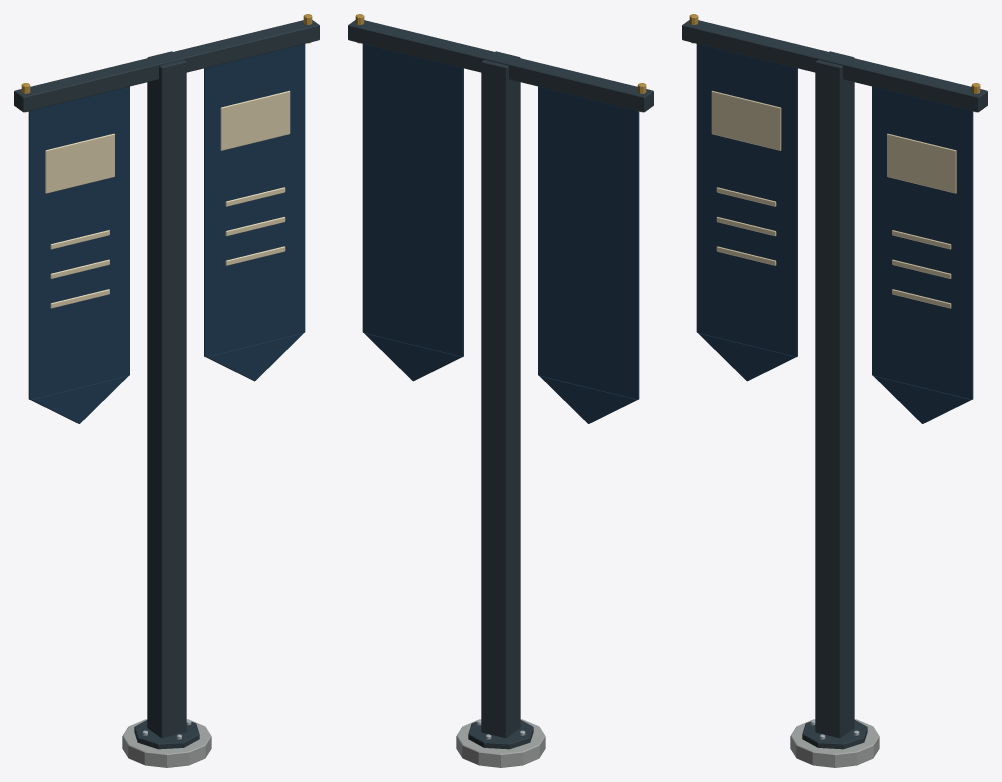
The model's file is b18_twin_vertical_banner_gateway.glb.
3 views of the same model, side by side, from view 1: azimuth 30°, elevation 25°; view 2: azimuth 150°, elevation 25°; view 3: azimuth 330°, elevation 25° (orthographic).
Parts seen in each view (by area): view 1: b18_twin_vertical_banner_gateway; view 2: b18_twin_vertical_banner_gateway; view 3: b18_twin_vertical_banner_gateway.
Boxes of the visible parts, x1,y1,x2,y2 form: b18_twin_vertical_banner_gateway: [14, 14, 319, 767]; b18_twin_vertical_banner_gateway: [348, 14, 653, 767]; b18_twin_vertical_banner_gateway: [682, 14, 987, 767].
Bounding box in the file's own units: 2 × 4.5 × 0.52.
